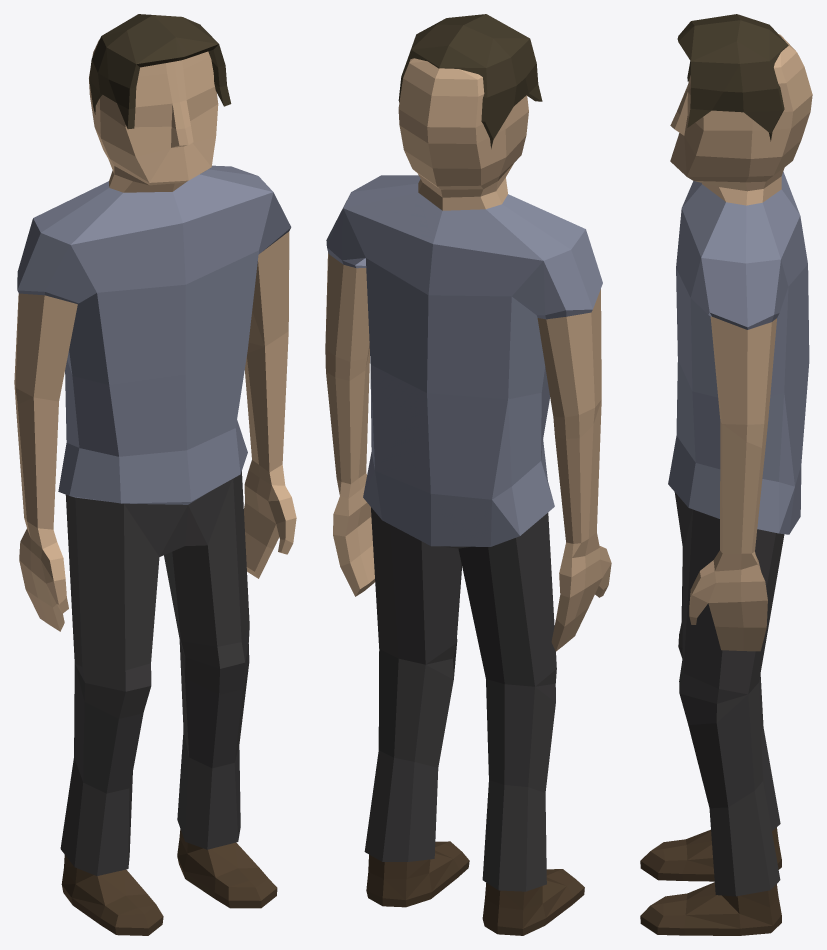
The model's file is worker-man.glb.
3 renders of one model, left to right at view 1: azimuth 30°, elevation 25°; view 2: azimuth 150°, elevation 25°; view 3: azimuth 270°, elevation 25°, orthographic.
Parts seen in each view (by area): view 1: Male_Standing_Human_CylinderMesh.006, Male_Hairstyle_1_Human_CylinderMesh.002; view 2: Male_Standing_Human_CylinderMesh.006, Male_Hairstyle_1_Human_CylinderMesh.002; view 3: Male_Standing_Human_CylinderMesh.006, Male_Hairstyle_1_Human_CylinderMesh.002.
Part boxes in pixels (bbox=[...]): Male_Standing_Human_CylinderMesh.006: bbox=[14, 39, 296, 935]; Male_Hairstyle_1_Human_CylinderMesh.002: bbox=[89, 14, 231, 129]; Male_Standing_Human_CylinderMesh.006: bbox=[325, 58, 611, 935]; Male_Hairstyle_1_Human_CylinderMesh.002: bbox=[398, 14, 542, 148]; Male_Standing_Human_CylinderMesh.006: bbox=[640, 34, 812, 935]; Male_Hairstyle_1_Human_CylinderMesh.002: bbox=[677, 14, 788, 141].
Bounding box in the file's own units: 0.559 × 1.75 × 0.3122.
